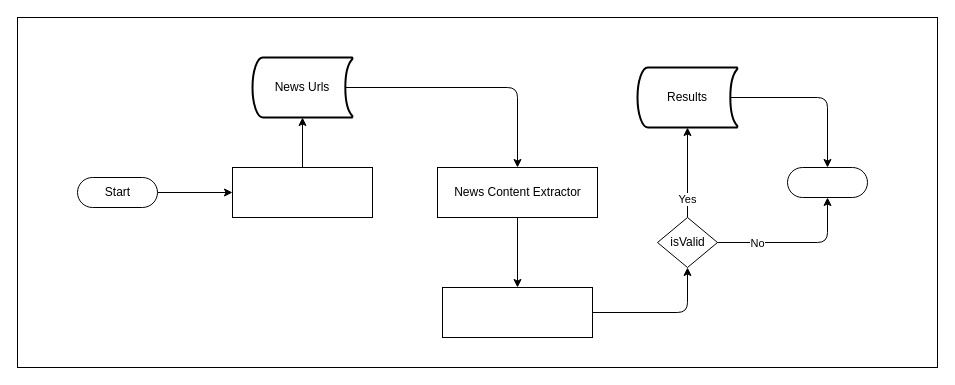
This 955x385 diagram has some shape labels left out. The centre of each missing label's shape, as x and y in pixels:
End: point 827,182
News URL Extractor: point 302,192
Sentiment Analysis: point 517,312
